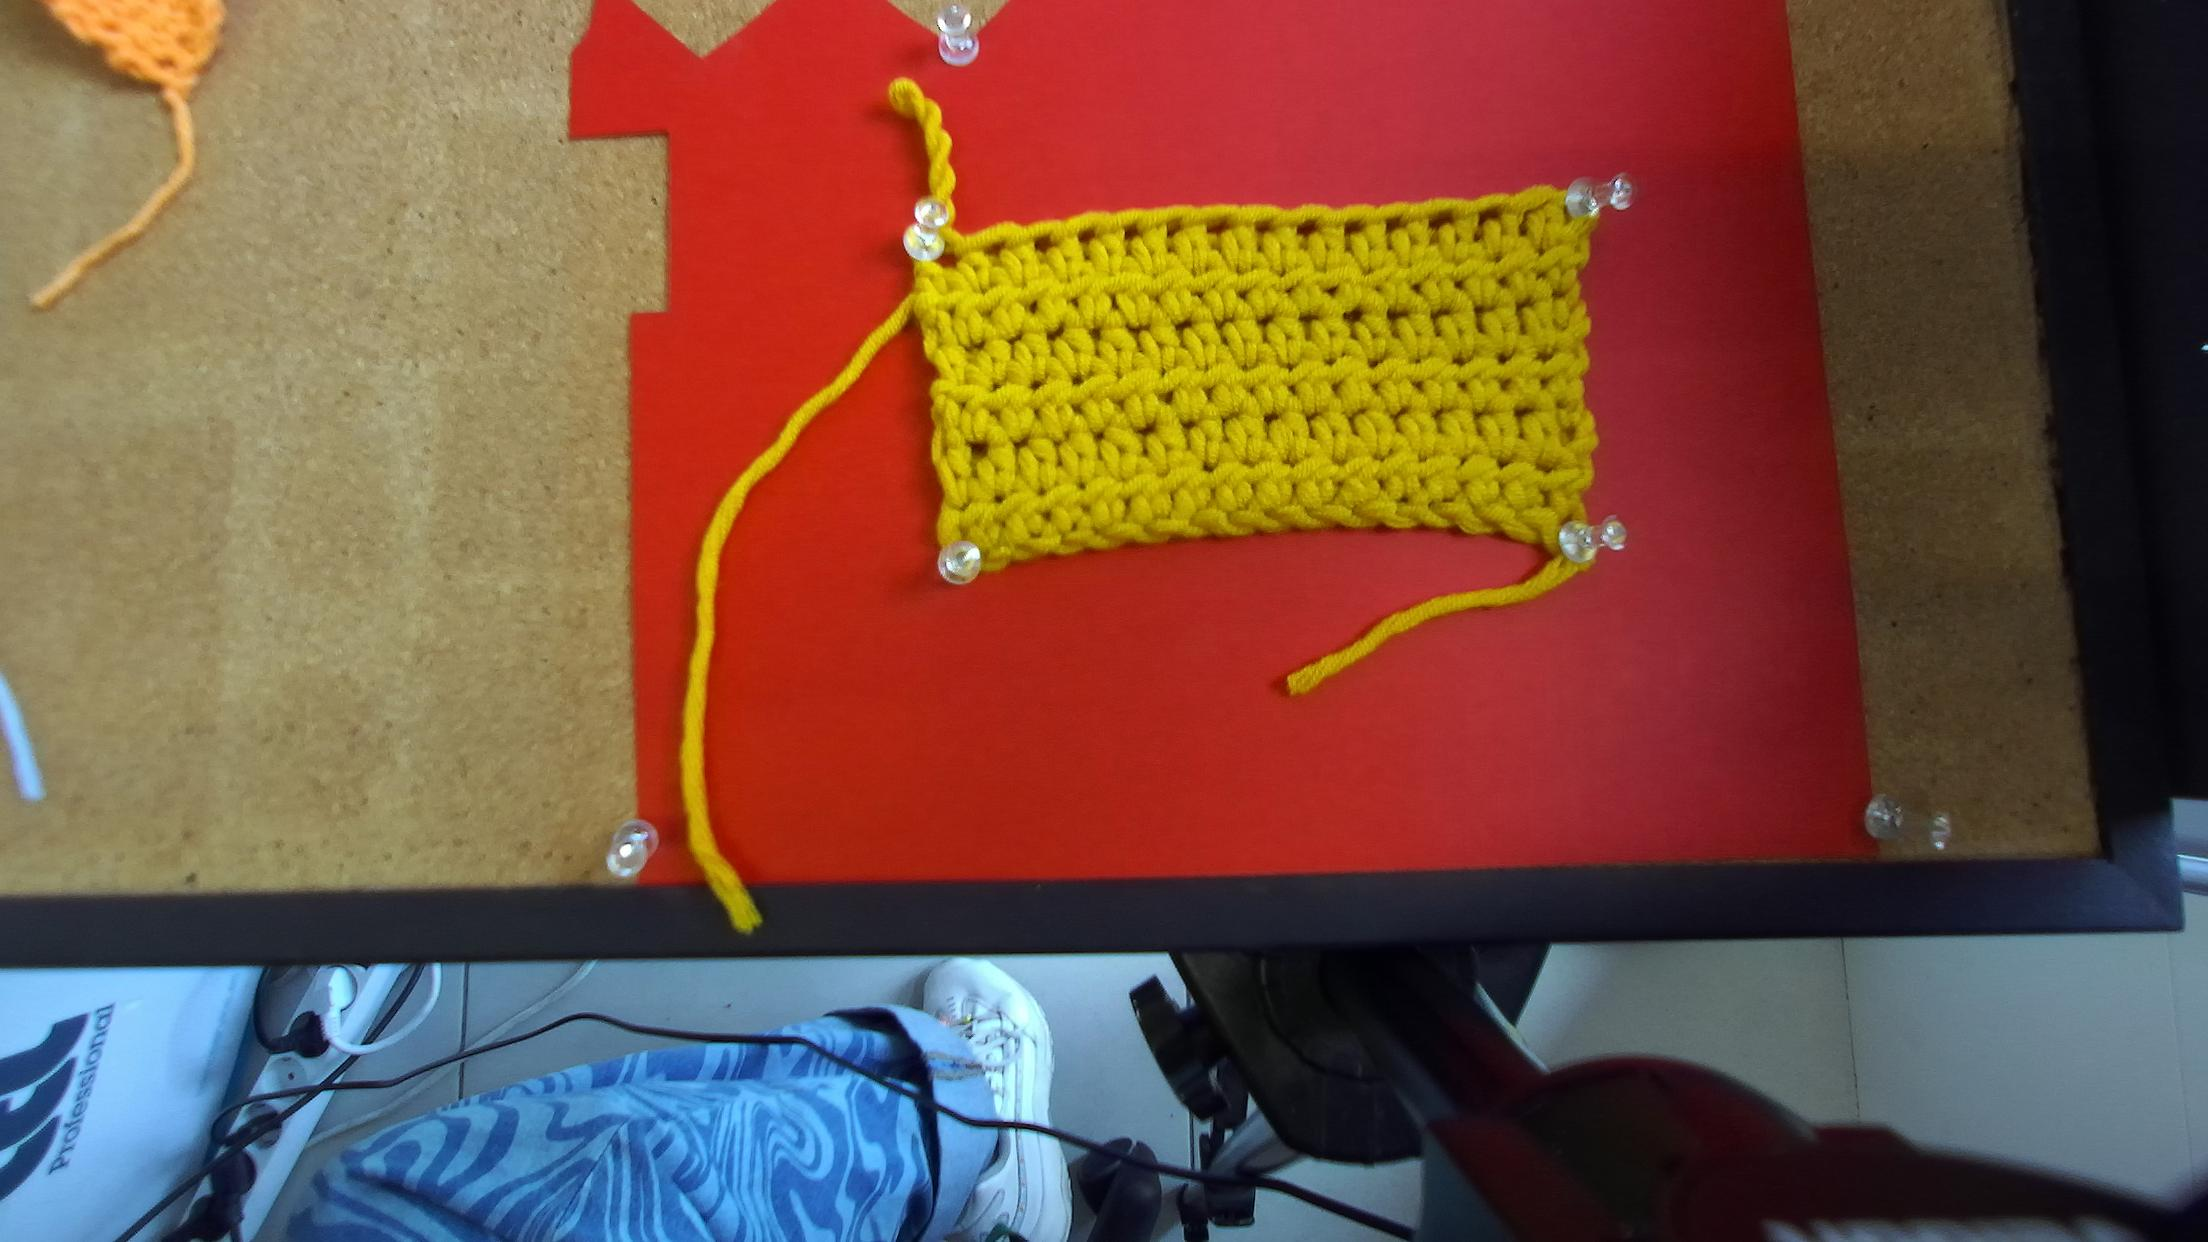hole: (930, 244, 963, 268), (1030, 232, 1059, 255), (1383, 212, 1407, 238), (1425, 211, 1454, 232), (1204, 218, 1233, 238), (1476, 206, 1500, 229), (1521, 200, 1545, 223), (1295, 218, 1318, 241), (981, 238, 1005, 258), (1124, 220, 1142, 246), (1344, 220, 1366, 240), (1166, 215, 1181, 241), (1075, 227, 1096, 246), (1253, 218, 1272, 237)
swatch: (902, 177, 1632, 588)
